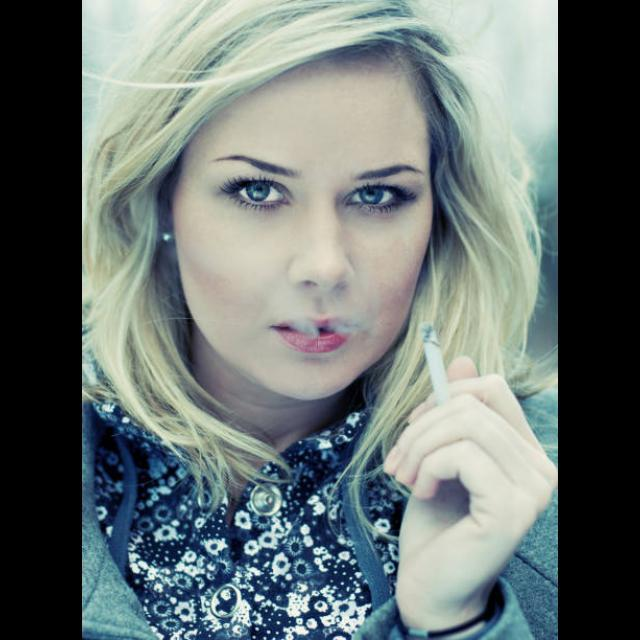rokok: (413, 330, 459, 394)
